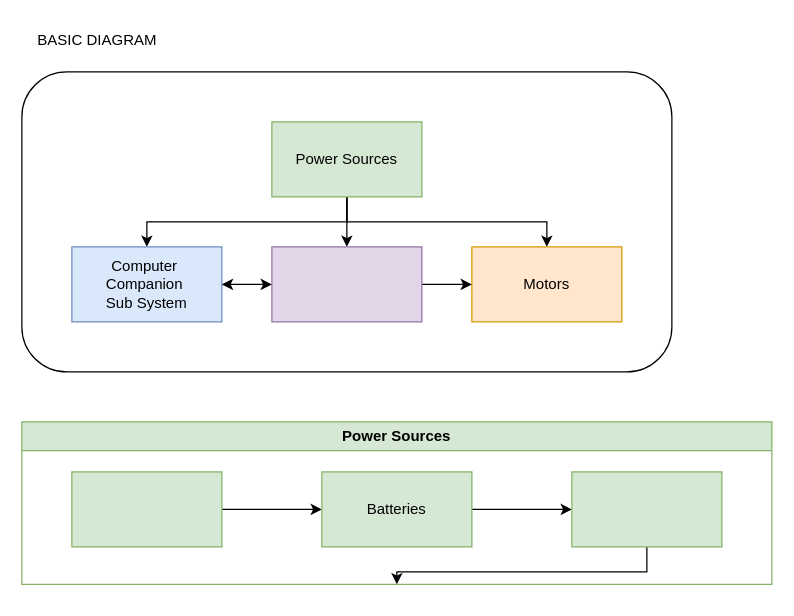
The diagram is 794 pixels wide and 616 high, and some of its shapes have lost their labels. The centre of each missing label's shape, as x and y in pixels:
Flight Controller Sub System: [346,284]
Power Distribution Board: [646,509]
Solar Panels: [146,509]
